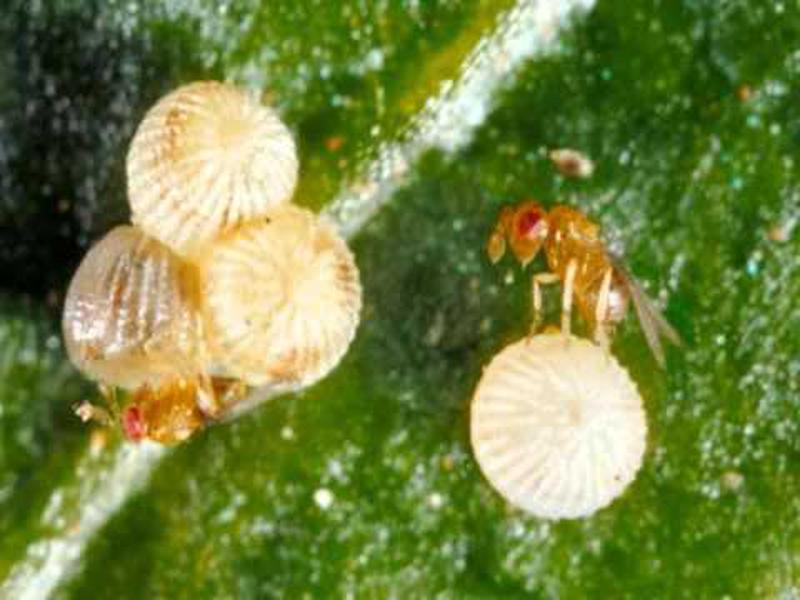Paddy_stemborer: (465, 197, 653, 354), (40, 356, 260, 448)
